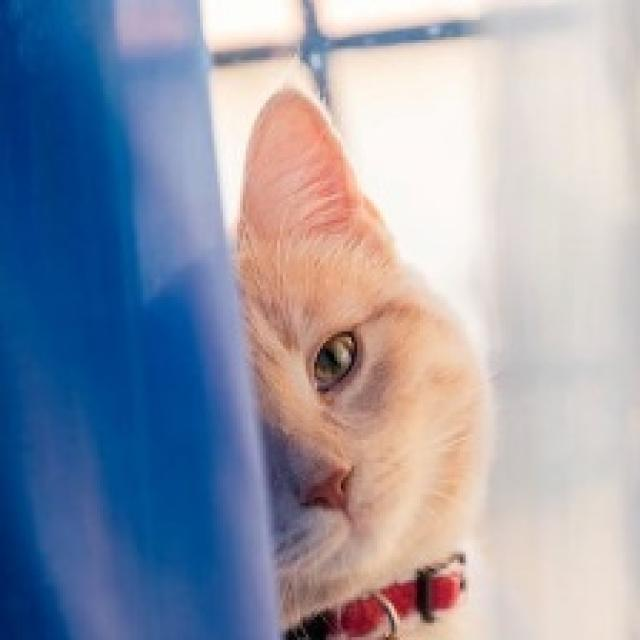Angry: (181, 298, 421, 609)
